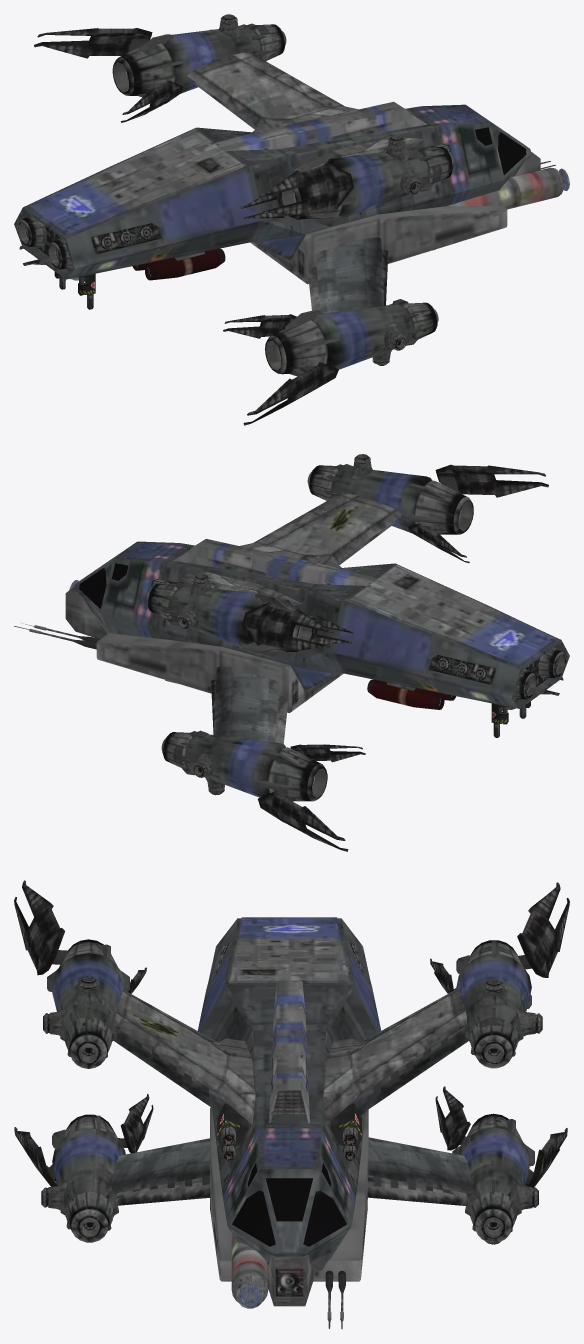
Rendered from cand-a.glb.
The picture shows the model from 3 angles, top to bottom: view 1: azimuth 30°, elevation 25°; view 2: azimuth 150°, elevation 25°; view 3: azimuth 270°, elevation 25°; orthographic projection. The views are drawn at different scales.
Visible parts, largest first — view 1: hull; view 2: hull; view 3: hull.
Part boxes in pixels (x1,y1,x2,y2): hull: (14,14,569,425); hull: (14,454,569,851); hull: (14,880,569,1329).
Size of the model in its own units: 24 by 10.27 by 17.95.
Materials: 2 (2 with a texture image).
